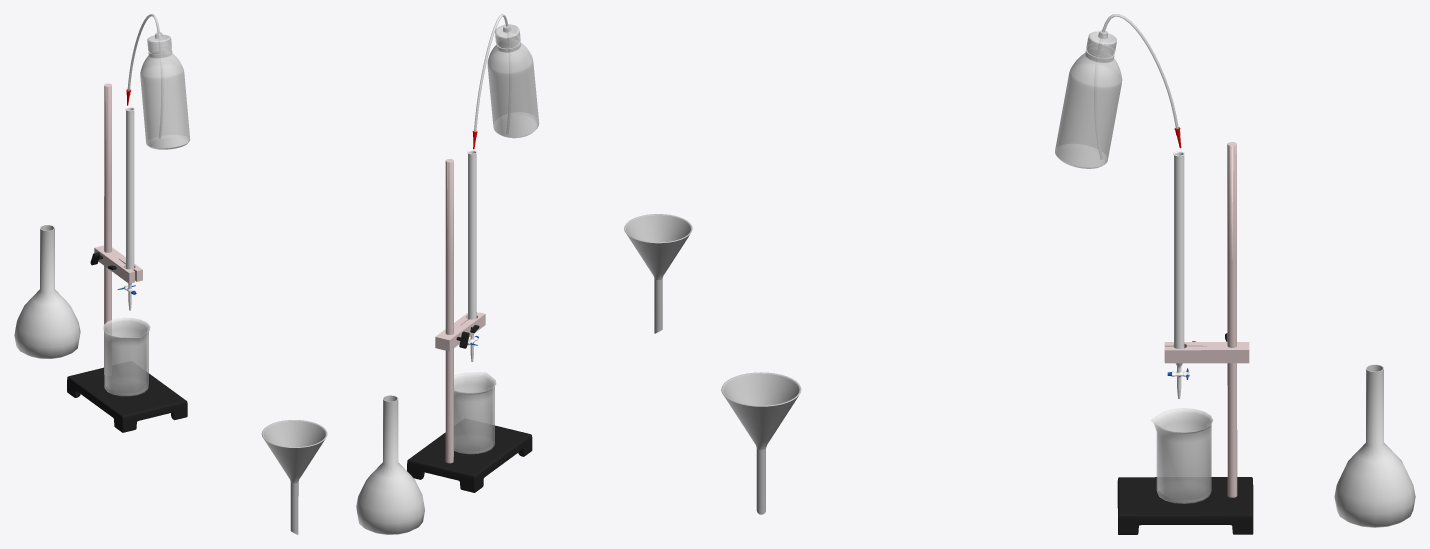
The model's file is scene1-cuci_buret-baru (2).fbx.
The picture shows the model from 3 angles, left to right: view 1: azimuth 30°, elevation 25°; view 2: azimuth 150°, elevation 25°; view 3: azimuth 270°, elevation 25°; orthographic projection. The views are drawn at different scales.
Visible parts, largest first — view 1: pCylinder1, Volumetric Flask, polySurface2, Beaker, Funnel3, polySurface1, burette, pCube4, pCylinder2; view 2: Volumetric Flask, pCylinder1, polySurface2, Beaker, Funnel3, polySurface1, burette, pCube4, pCylinder2; view 3: Volumetric Flask, pCylinder1, polySurface2, Beaker, Funnel3, polySurface1, burette, pCube4, pCylinder2.
Boxes of the visible parts, <box> form: pCylinder1: <box>140,32,190,149</box>; Volumetric Flask: <box>14,225,80,358</box>; polySurface2: <box>67,367,187,432</box>; Beaker: <box>103,317,150,396</box>; Funnel3: <box>261,420,327,534</box>; polySurface1: <box>104,83,111,374</box>; burette: <box>124,107,135,310</box>; pCube4: <box>94,245,142,283</box>; pCylinder2: <box>127,14,163,138</box>; Volumetric Flask: <box>356,395,424,534</box>; pCylinder1: <box>487,24,539,138</box>; polySurface2: <box>407,425,532,492</box>; Beaker: <box>454,372,496,454</box>; Funnel3: <box>624,214,692,333</box>; polySurface1: <box>445,159,453,463</box>; burette: <box>467,150,478,361</box>; pCube4: <box>435,312,485,351</box>; pCylinder2: <box>474,14,511,134</box>; Volumetric Flask: <box>1334,364,1415,527</box>; pCylinder1: <box>1055,30,1122,168</box>; polySurface2: <box>1117,477,1253,534</box>; Beaker: <box>1150,408,1213,503</box>; Funnel3: <box>721,372,801,514</box>; polySurface1: <box>1227,142,1237,497</box>; burette: <box>1172,151,1186,398</box>; pCube4: <box>1164,342,1249,363</box>; pCylinder2: <box>1094,14,1178,159</box>.
Bounding box in the file's own units: 560 × 3233 × 4045.
